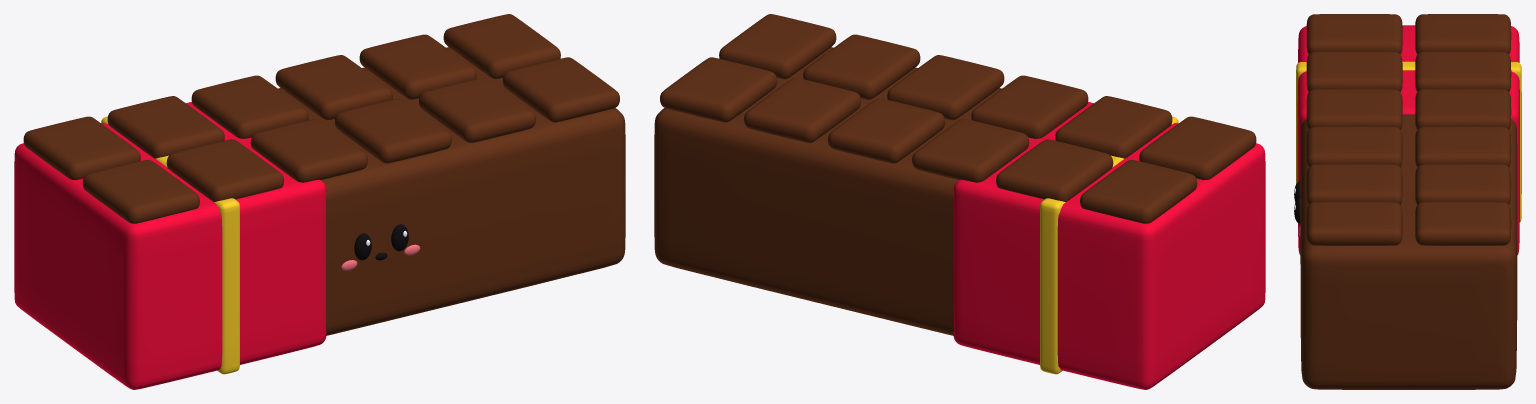
The model's file is ChocoBlock.glb.
3 views of the same model, side by side, from view 1: azimuth 30°, elevation 25°; view 2: azimuth 150°, elevation 25°; view 3: azimuth 270°, elevation 25° (orthographic). The views are drawn at different scales.
Parts seen in each view (by area): view 1: Cube.013, Cube, Cube.011, Cube.007, Cube.009, Cube.005, Cube.001, Cube.003, Cube.010, Cube.008, Cube.012, Cube.002 (+3 smaller); view 2: Cube.013, Cube, Cube.012, Cube.008, Cube.010, Cube.006, Cube.002, Cube.004, Cube.009, Cube.007, Cube.011, Cube.001 (+3 smaller); view 3: Cube, Cube.011, Cube.012, Cube.003, Cube.004, Cube.007, Cube.009, Cube.005, Cube.008, Cube.001, Cube.010, Cube.006 (+3 smaller).
Boxes of the visible parts, x1,y1,x2,y2 form: Cube.013: (14, 102, 326, 389); Cube: (278, 47, 625, 335); Cube.011: (503, 57, 619, 122); Cube.007: (334, 98, 451, 163); Cube.009: (418, 77, 535, 142); Cube.005: (250, 118, 367, 182); Cube.001: (82, 159, 199, 223); Cube.003: (166, 139, 283, 201); Cube.010: (359, 34, 476, 99); Cube.008: (275, 55, 392, 120); Cube.012: (443, 14, 560, 79); Cube.002: (23, 116, 140, 179); Cube.013: (953, 102, 1265, 389); Cube: (654, 47, 1001, 335); Cube.012: (660, 57, 776, 122); Cube.008: (828, 98, 945, 163); Cube.010: (744, 77, 861, 142); Cube.006: (912, 118, 1029, 182); Cube.002: (1080, 159, 1197, 223); Cube.004: (996, 139, 1113, 201); Cube.009: (803, 34, 920, 99); Cube.007: (887, 55, 1004, 120); Cube.011: (719, 14, 836, 79); Cube.001: (1139, 116, 1256, 179); Cube: (1300, 114, 1517, 389); Cube.011: (1306, 202, 1402, 245); Cube.012: (1415, 202, 1511, 245); Cube.003: (1306, 51, 1402, 91); Cube.004: (1415, 51, 1511, 91); Cube.007: (1306, 126, 1402, 167); Cube.009: (1306, 164, 1402, 204); Cube.005: (1306, 89, 1402, 129); Cube.008: (1415, 126, 1511, 167); Cube.001: (1306, 14, 1402, 54); Cube.010: (1415, 164, 1511, 204); Cube.006: (1415, 89, 1511, 129).
Bounding box in the file's own units: 6 × 2.08 × 2.56.
